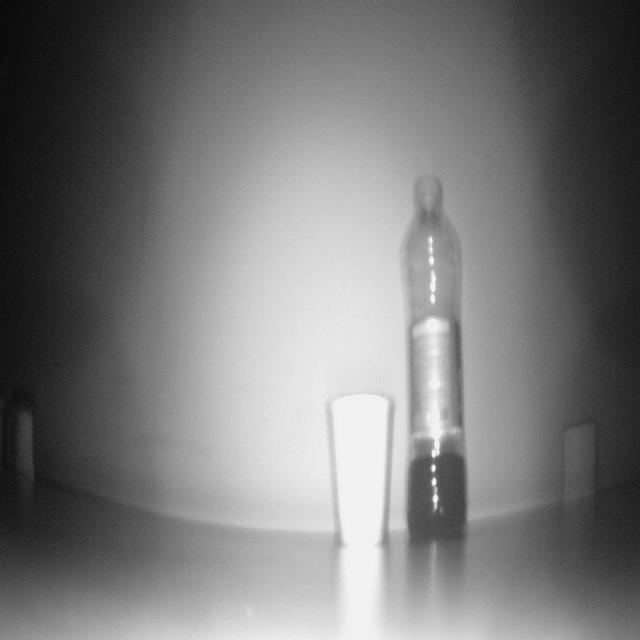targets: (400, 173, 470, 541), (331, 396, 394, 543), (557, 424, 602, 497), (12, 404, 35, 485)
